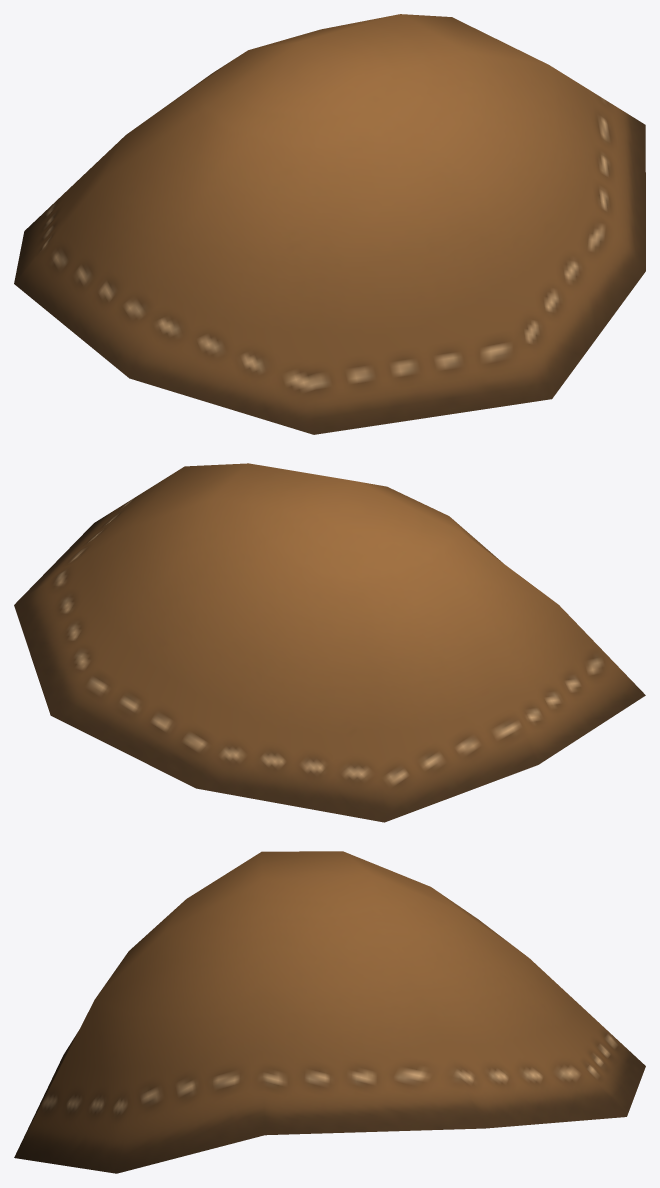
File: LAS_1_Shoulder_R.obj
3 renders of one model, top to bottom at view 1: azimuth 30°, elevation 25°; view 2: azimuth 150°, elevation 25°; view 3: azimuth 270°, elevation 25°, orthographic. The views are drawn at different scales.
Visible parts, largest first — view 1: Knight.012_proxy741.obj.008; view 2: Knight.012_proxy741.obj.008; view 3: Knight.012_proxy741.obj.008.
Part boxes in pixels (bbox=[...]): Knight.012_proxy741.obj.008: bbox=[14, 14, 645, 434]; Knight.012_proxy741.obj.008: bbox=[14, 463, 645, 822]; Knight.012_proxy741.obj.008: bbox=[14, 851, 645, 1173].
Bounding box in the file's own units: 0.1783 × 0.0751 × 0.1734.
